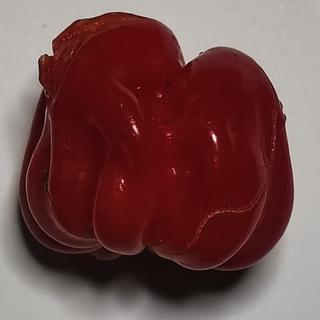striped: (36, 10, 156, 94), (177, 176, 278, 261)
